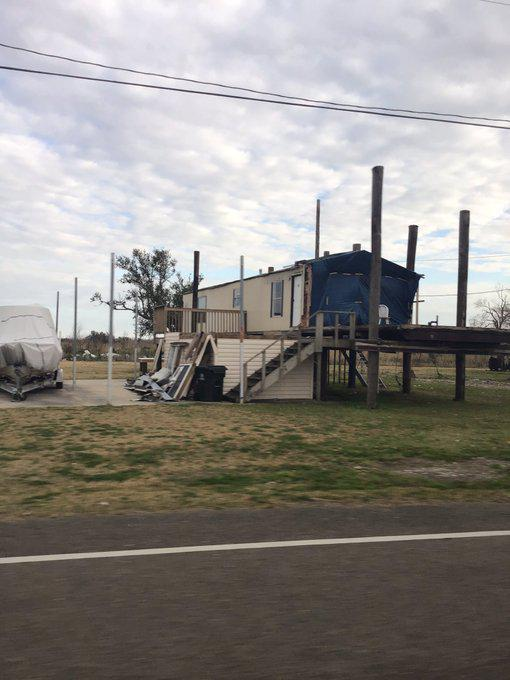destroyed: (123, 151, 505, 411)
